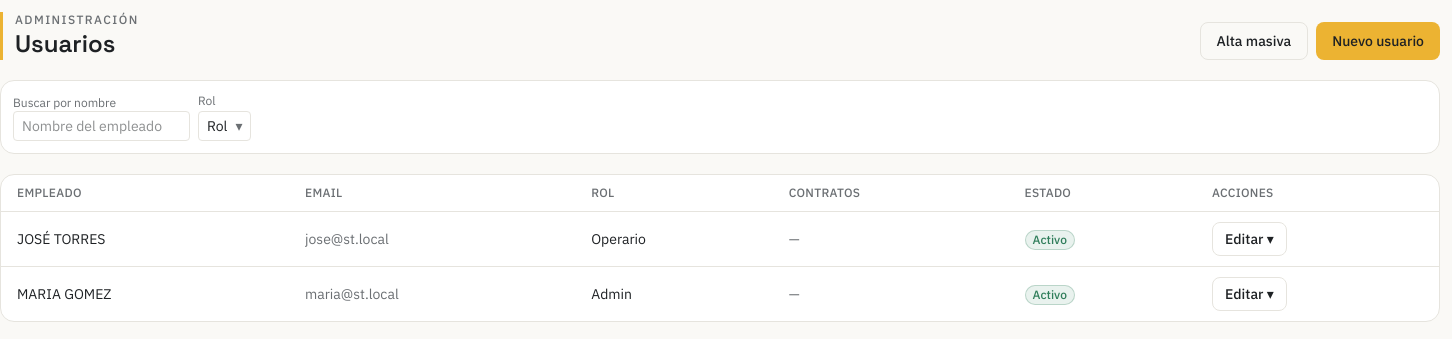
Test: UsuariosAdminPage — filtro › filtra por nombre, sin distinguir tildes/mayúsculas
This screenshot has width=1452, height=339.
Type "jose" into the field labelled "Buscar por nombre" at (102, 126), box [13,111,190,141]
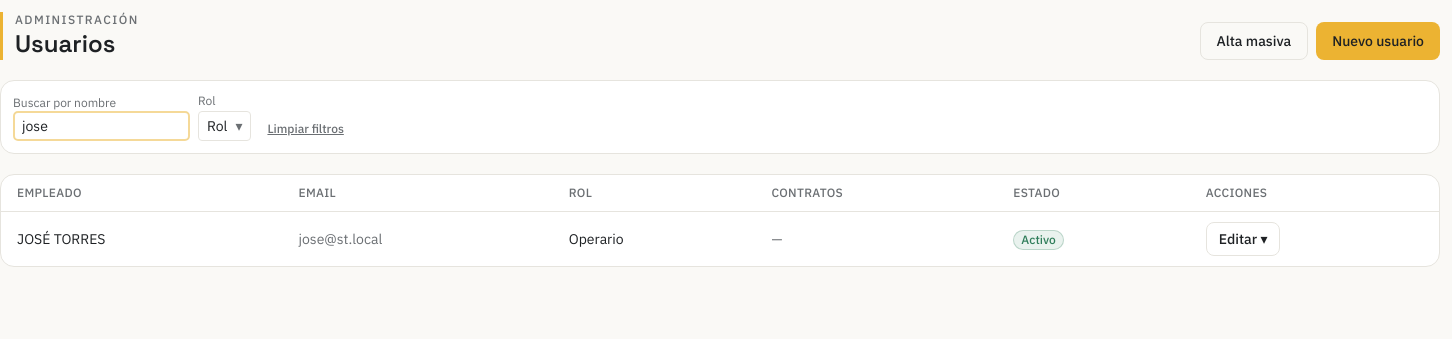
Expected: the text "JOSÉ TORRES" is shown, [1,212,282,266]
Expected: the text "MARIA GOMEZ" is gone
